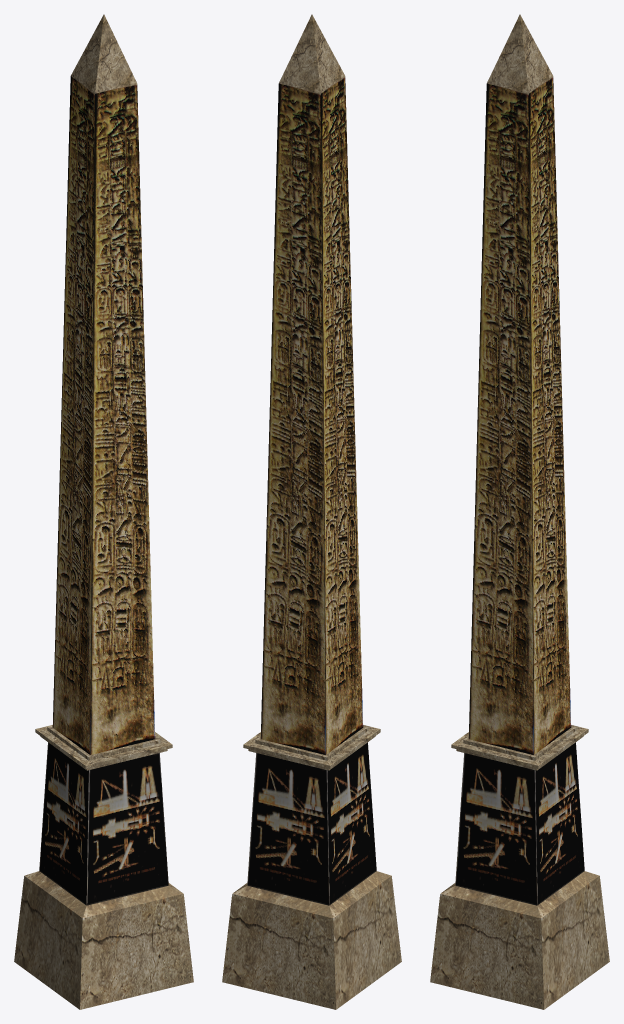
Rendered from Paris_Obelisk.FBX.
3 views of the same model, side by side, from view 1: azimuth 30°, elevation 25°; view 2: azimuth 150°, elevation 25°; view 3: azimuth 330°, elevation 25° (orthographic).
Parts seen in each view (by area): view 1: Box001; view 2: Box001; view 3: Box001.
Part boxes in pixels (box(x1,y1,x2,y2)): Box001: box(14, 14, 193, 1009); Box001: box(222, 14, 401, 1009); Box001: box(430, 14, 609, 1009).
Size of the model in its own units: 34.29 by 275 by 34.31.
